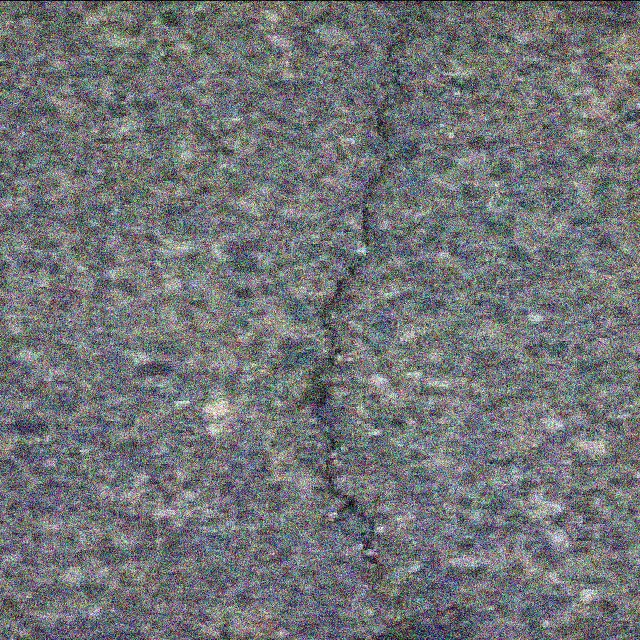SurfaceCrack: (280, 0, 462, 616)
